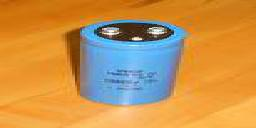Electrolytic-Capacitor: (77, 18, 189, 107)
